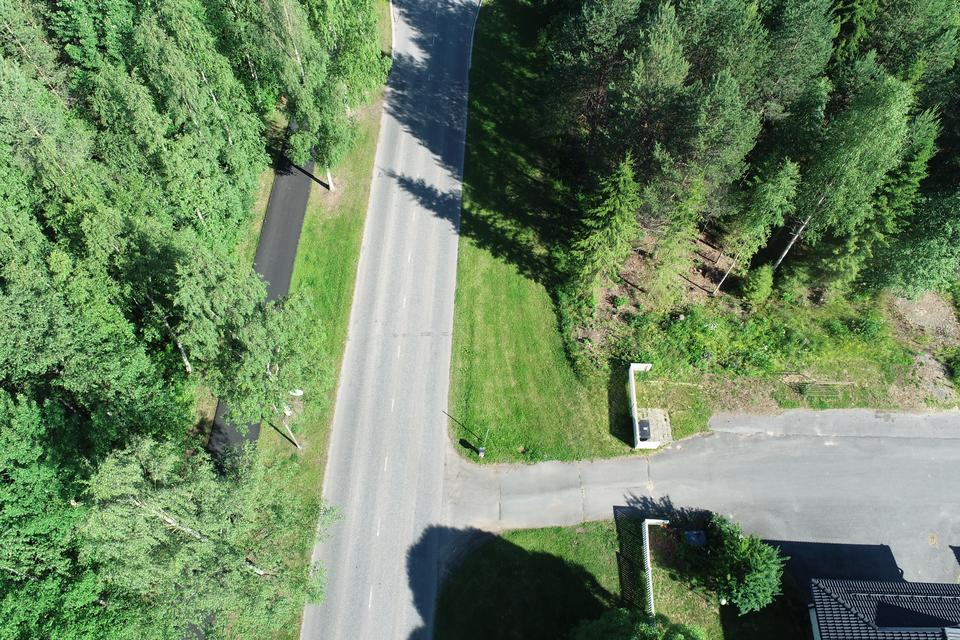intersection: (289, 402, 505, 583)
